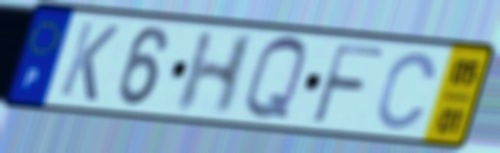6: (116, 25, 171, 109)
C: (373, 49, 440, 133)
F: (307, 40, 389, 129)
H: (171, 30, 260, 118)
K: (55, 18, 123, 105)
Q: (241, 33, 310, 125)
